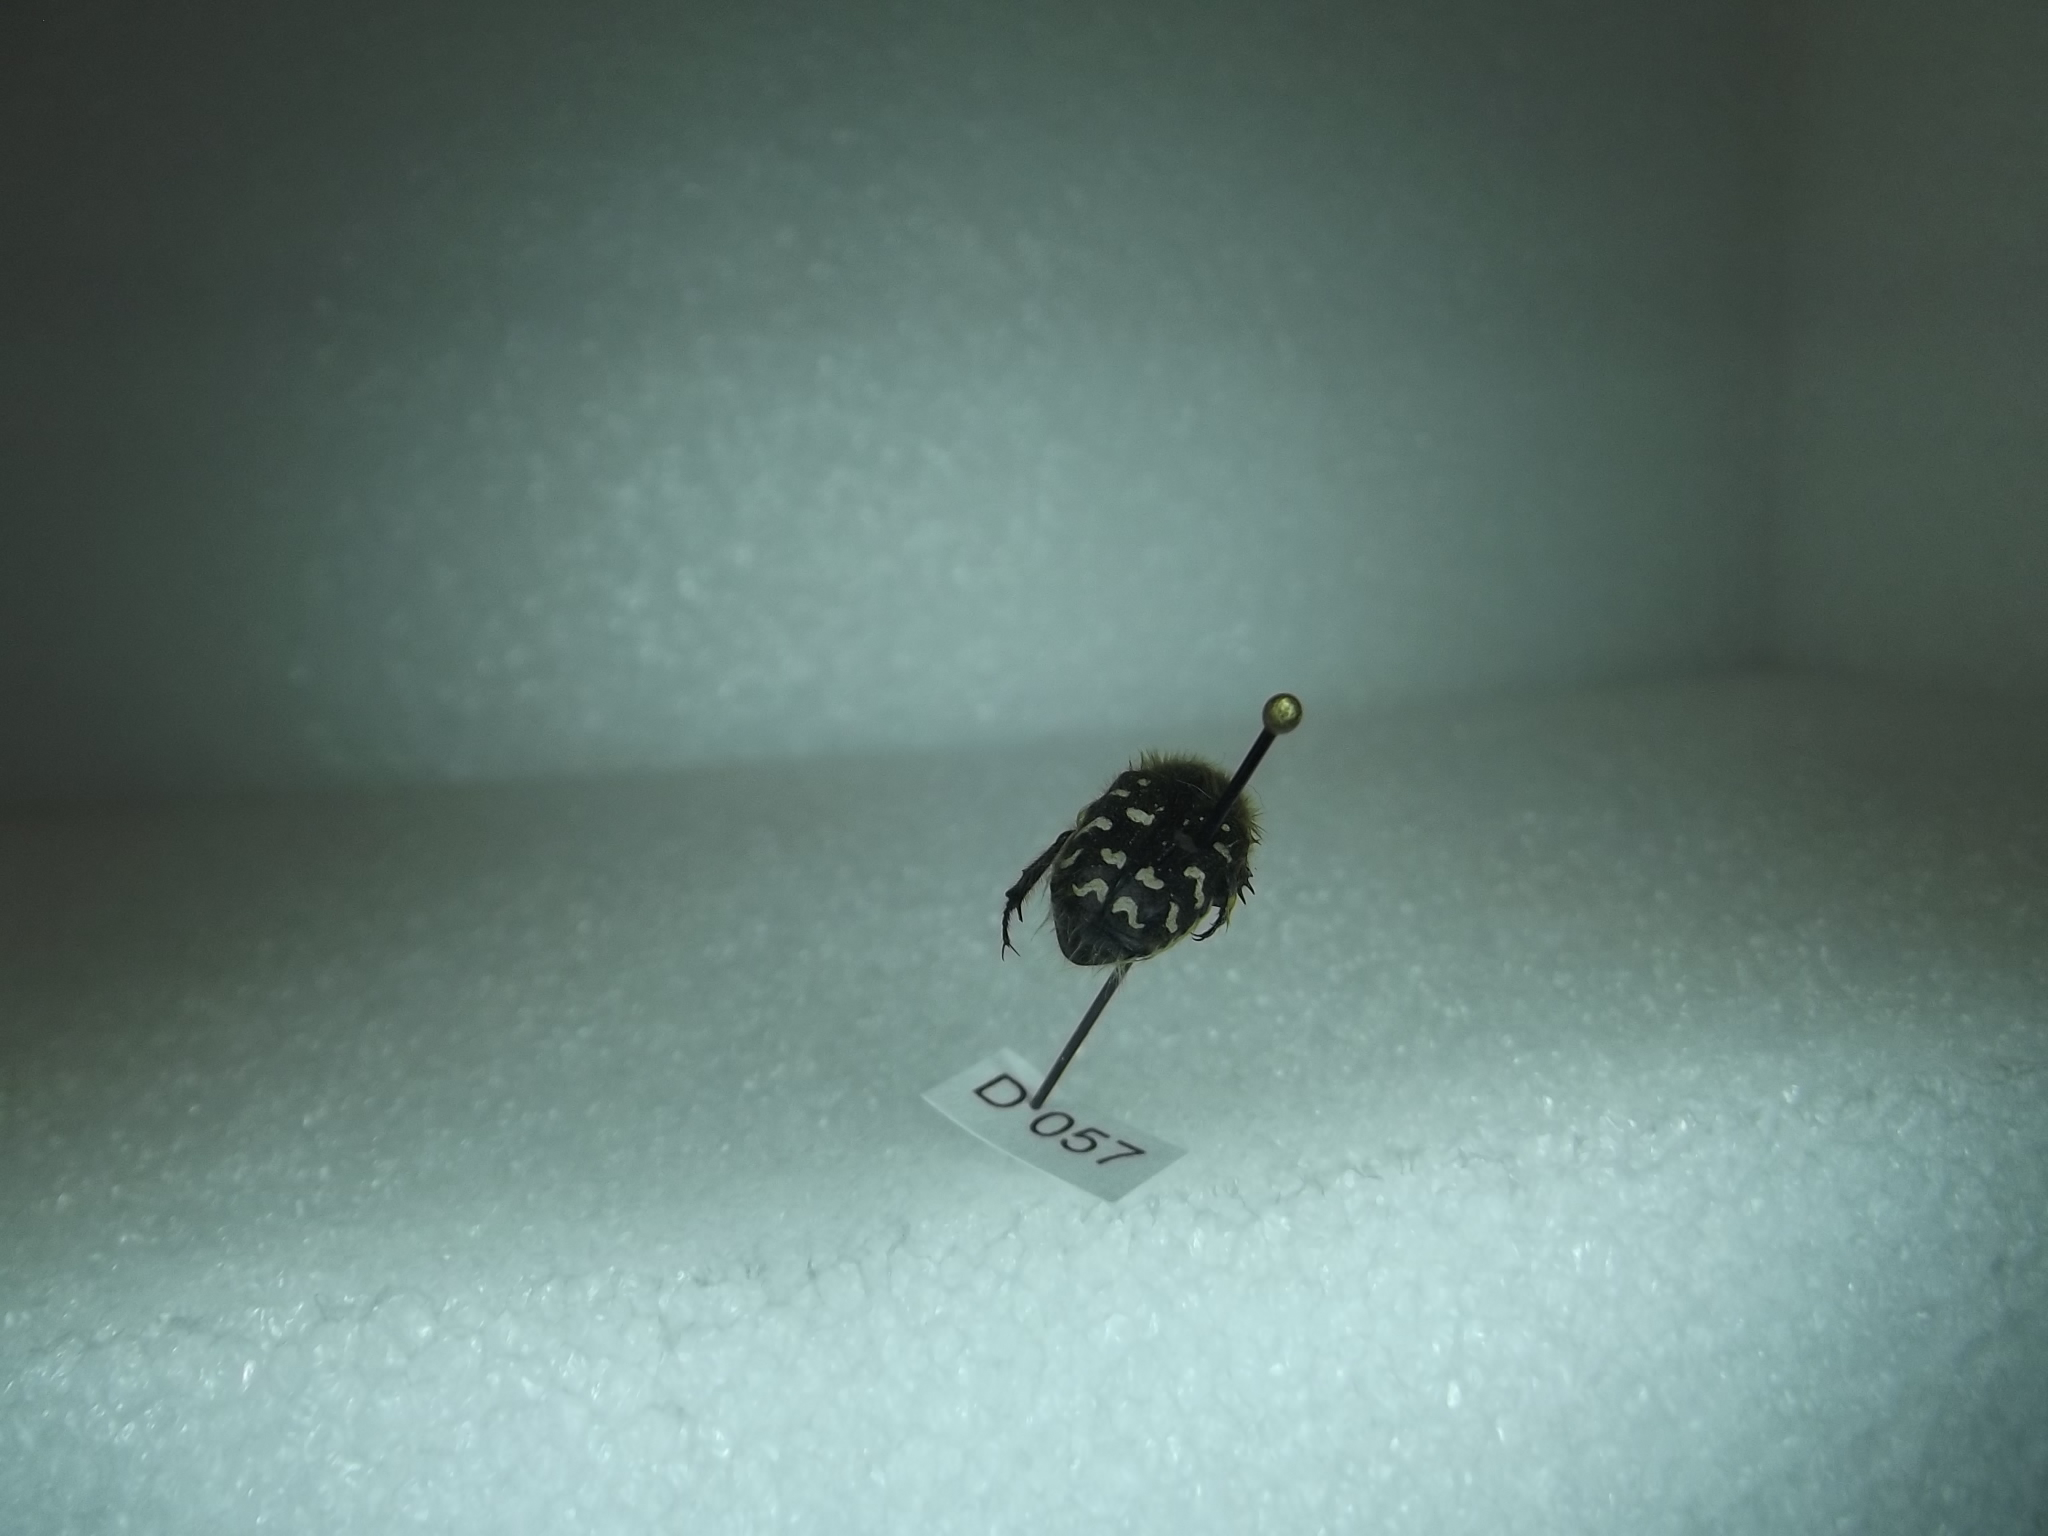Tropinota_hirta: (992, 745, 1292, 1002)
